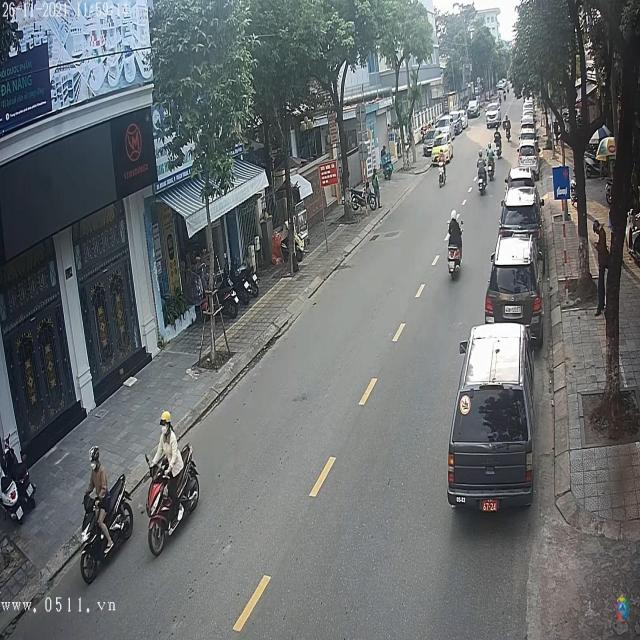car: (450, 322, 534, 508), (485, 238, 543, 348), (500, 188, 542, 238), (517, 145, 539, 171), (468, 98, 481, 118)
motorcycle: (145, 446, 200, 561), (79, 480, 136, 587), (448, 243, 462, 278), (477, 170, 488, 196), (438, 159, 447, 188)
